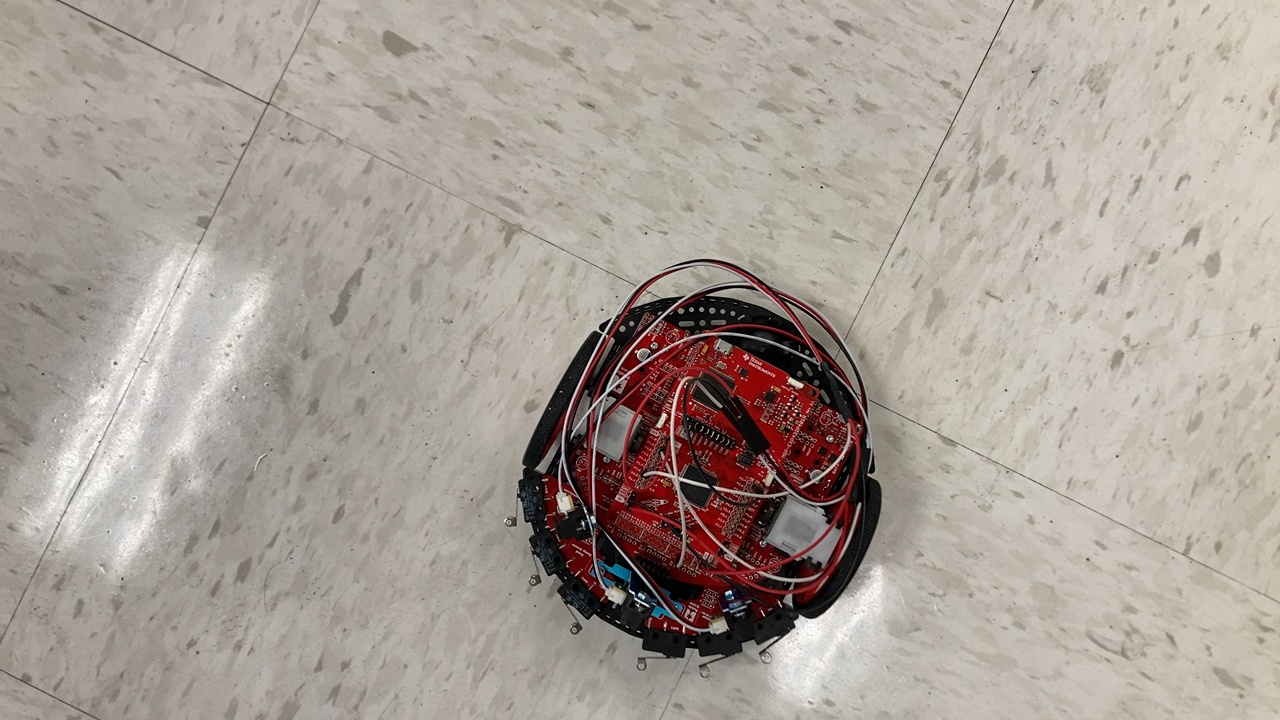robot: (498, 254, 895, 685)
